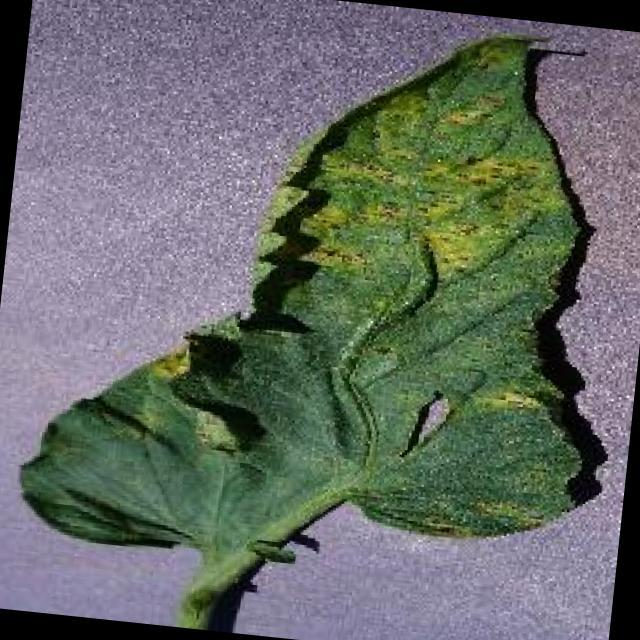Tomato Septoria spot leaf: (14, 0, 630, 593)
